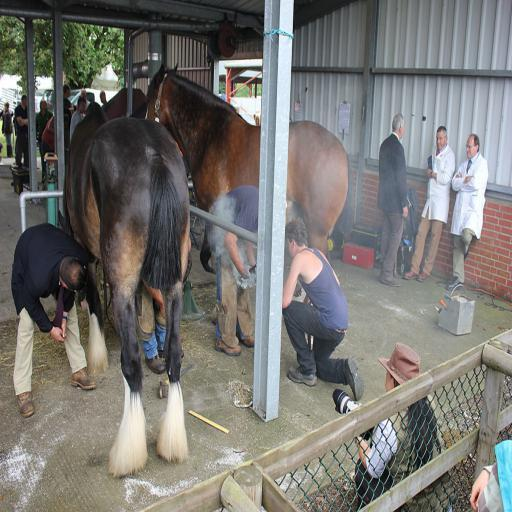horse: (144, 62, 354, 306), (58, 100, 192, 480), (102, 84, 148, 120)
